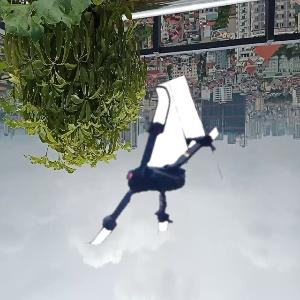drone: (66, 95, 231, 260)
